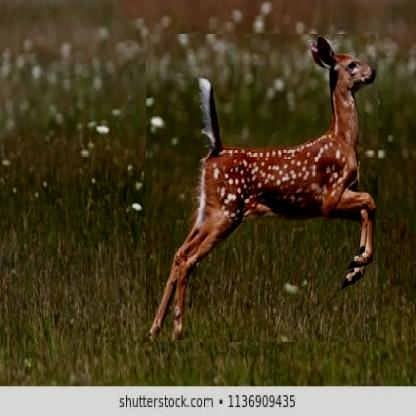Deer: (146, 34, 378, 342)
